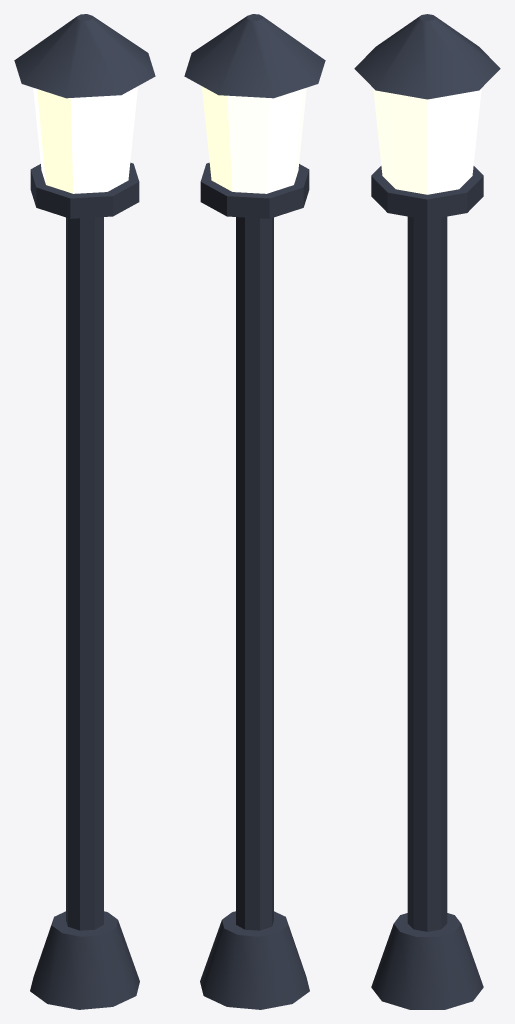
File: lamp_post.glb
3 views of the same model, side by side, from view 1: azimuth 30°, elevation 25°; view 2: azimuth 150°, elevation 25°; view 3: azimuth 270°, elevation 25° (orthographic).
Visible parts, largest first — view 1: lamp_post; view 2: lamp_post; view 3: lamp_post.
Part boxes in pixels (<box>): lamp_post: <box>14,14,155,1009</box>; lamp_post: <box>184,14,325,1009</box>; lamp_post: <box>354,14,500,1009</box>.
Bounding box in the file's own units: 0.52 × 3.8 × 0.52.
